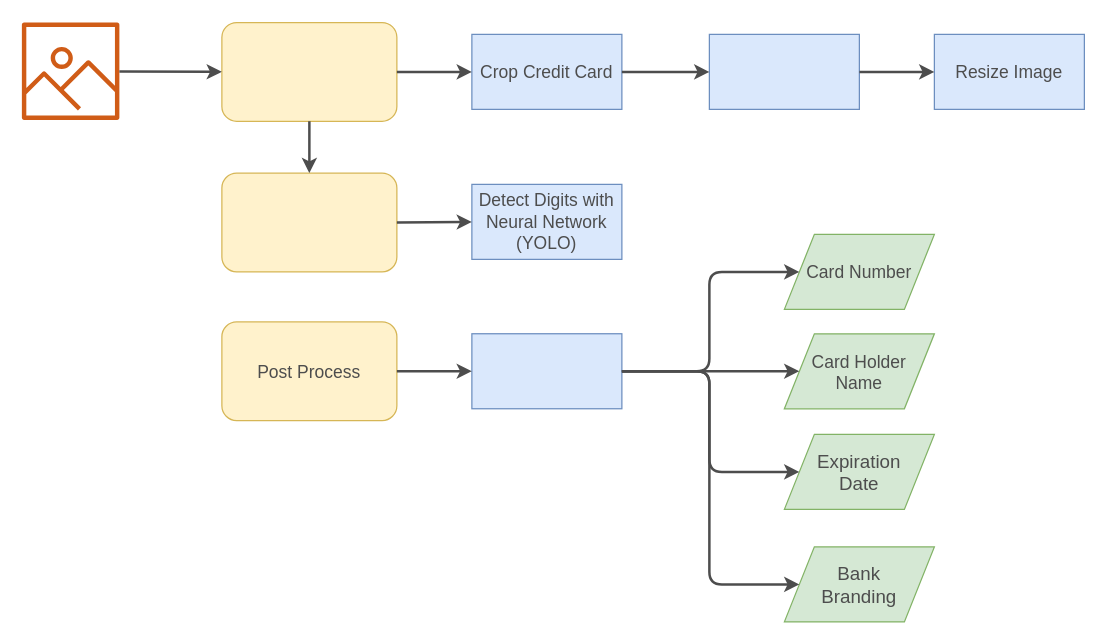
Some shapes in this 1106 by 644 pixel diagram are drawn without their labels. The box of each missing label's shape, as (x1, y1, x2, y2) in pixels:
Crop Redundant Background: (708, 33, 859, 109)
Detection Using Deep Learning: (221, 172, 397, 272)
Parse NN Output: (471, 332, 622, 409)
Pre Process Using Computer Vision: (221, 21, 397, 121)
